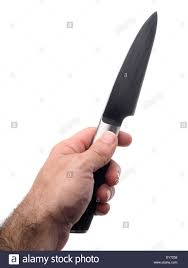weapon-unusual: (82, 6, 165, 232)
